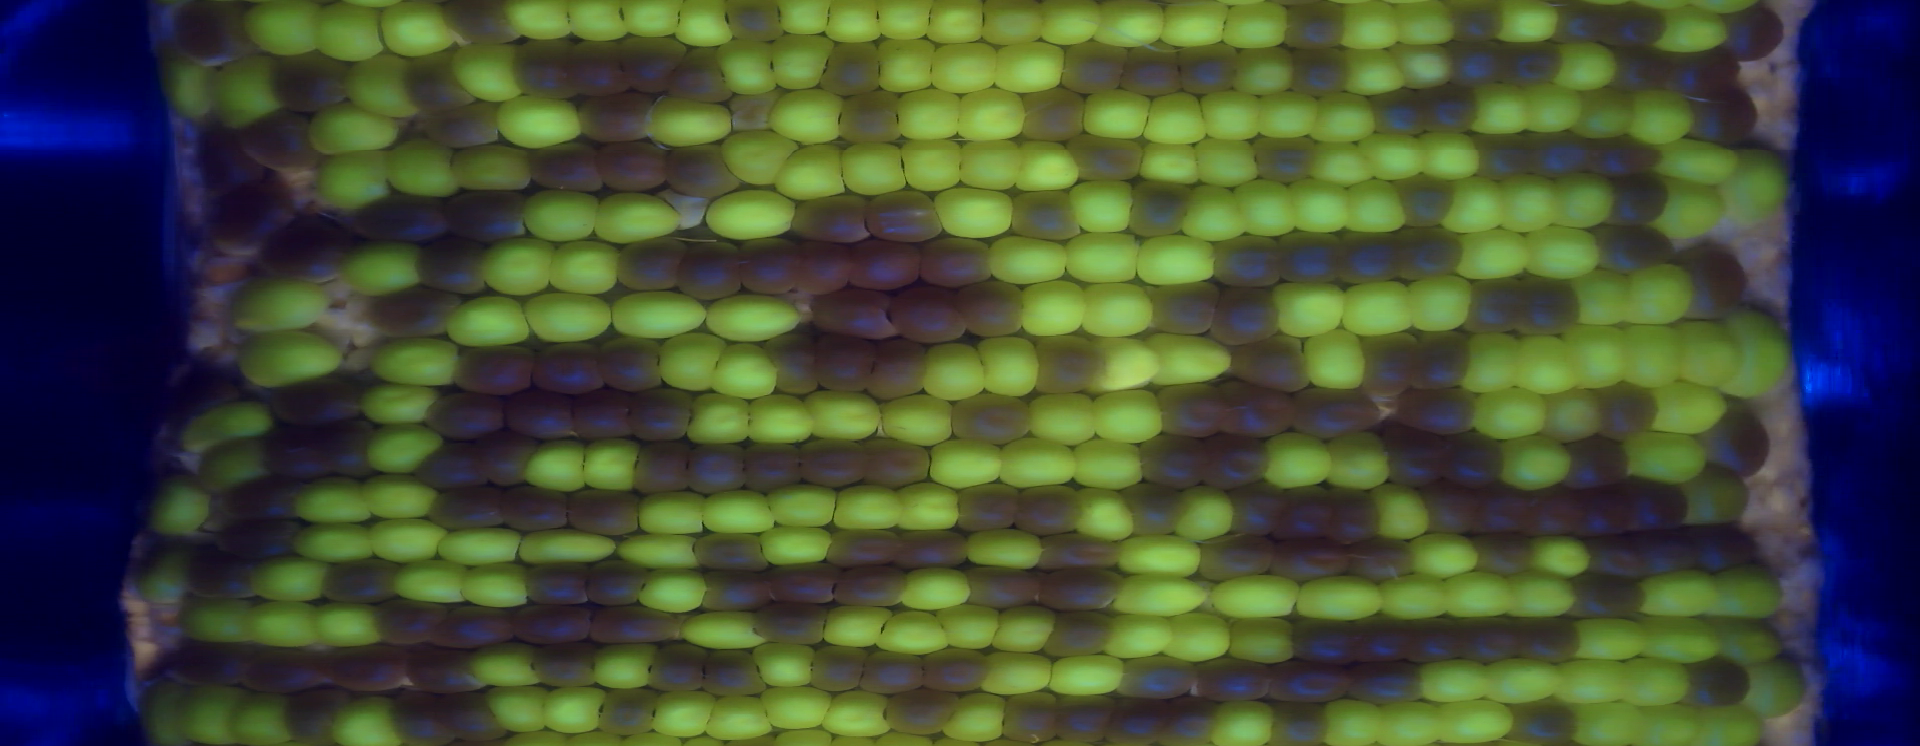fluorescent: (230, 325, 351, 390), (1716, 307, 1795, 405), (168, 394, 288, 457), (220, 274, 333, 341), (146, 36, 222, 129), (1667, 457, 1757, 534), (697, 287, 809, 348), (1100, 565, 1216, 621), (1717, 142, 1794, 227), (696, 185, 803, 245), (1251, 428, 1346, 496), (1142, 328, 1242, 393), (338, 50, 424, 125), (516, 288, 620, 349), (442, 134, 540, 198), (203, 48, 280, 130), (1553, 318, 1636, 394), (600, 289, 714, 344), (1261, 276, 1354, 343), (1080, 383, 1173, 451), (364, 334, 468, 394), (334, 236, 431, 300), (440, 292, 536, 355), (1071, 274, 1160, 344), (1703, 560, 1793, 628), (492, 89, 588, 153), (301, 96, 400, 157), (310, 145, 397, 214), (718, 125, 804, 195), (1167, 178, 1254, 247), (1108, 528, 1213, 586), (1079, 333, 1167, 402), (355, 416, 452, 479), (349, 467, 449, 527), (928, 183, 1022, 246), (987, 431, 1085, 492), (588, 187, 687, 247), (1733, 650, 1812, 725), (1506, 327, 1588, 399), (1204, 568, 1307, 626), (1007, 273, 1093, 341), (1291, 571, 1392, 628), (1020, 386, 1108, 452), (647, 325, 729, 396), (770, 135, 853, 205), (636, 93, 741, 148), (236, 1, 331, 62), (370, 1, 464, 62), (978, 232, 1074, 292), (950, 80, 1038, 145), (189, 432, 277, 497), (475, 232, 558, 300), (1064, 434, 1153, 497), (1669, 314, 1742, 391), (1400, 266, 1478, 338), (795, 383, 885, 446), (360, 510, 454, 570), (1547, 653, 1641, 713), (1630, 563, 1728, 621), (1697, 611, 1793, 670), (540, 235, 624, 301), (1296, 322, 1373, 394), (446, 36, 524, 107), (383, 134, 463, 203), (1131, 230, 1222, 292), (1485, 167, 1566, 235), (1630, 610, 1724, 669), (816, 593, 902, 657), (1133, 86, 1215, 153), (1338, 274, 1420, 342), (306, 1, 389, 67), (970, 330, 1044, 403), (1166, 478, 1242, 550), (912, 334, 989, 405), (287, 472, 380, 530), (1651, 129, 1744, 187), (509, 521, 623, 568), (1449, 225, 1539, 285), (1520, 223, 1607, 285), (1644, 173, 1728, 238), (1057, 227, 1149, 285), (1622, 258, 1696, 332), (1618, 429, 1713, 485), (1319, 425, 1397, 494), (986, 38, 1071, 100), (831, 134, 913, 198), (740, 388, 822, 453), (1456, 327, 1529, 399), (1615, 318, 1687, 392), (1365, 477, 1438, 550), (1547, 167, 1622, 236), (609, 527, 711, 578), (1566, 262, 1644, 330), (763, 85, 849, 146), (1063, 483, 1144, 548), (242, 551, 336, 608), (1491, 431, 1578, 491), (760, 477, 849, 535), (1477, 650, 1565, 709), (520, 183, 605, 244), (922, 434, 1014, 490), (1370, 566, 1456, 626), (707, 339, 785, 404), (144, 467, 216, 538), (287, 514, 384, 566), (167, 679, 241, 746), (676, 604, 771, 657), (1420, 698, 1526, 746), (876, 390, 958, 451), (1227, 176, 1303, 243), (1495, 567, 1588, 621), (514, 432, 591, 497), (696, 484, 782, 541), (1464, 381, 1551, 439), (1435, 566, 1522, 624), (1411, 649, 1498, 707), (1078, 82, 1156, 146), (765, 27, 838, 96), (1412, 119, 1484, 187), (1441, 171, 1513, 240), (1280, 171, 1354, 238), (953, 129, 1029, 194), (923, 37, 1005, 97), (1558, 695, 1653, 746), (889, 82, 967, 145), (753, 679, 836, 737), (239, 593, 322, 652), (1644, 4, 1735, 58), (1188, 130, 1267, 191), (1625, 81, 1697, 148), (629, 483, 714, 540), (818, 686, 902, 744), (1646, 380, 1730, 437), (1566, 612, 1658, 665), (1153, 610, 1236, 669), (894, 135, 971, 197), (1063, 174, 1140, 236), (1463, 78, 1540, 141), (356, 379, 446, 432), (173, 595, 260, 650), (130, 676, 198, 746), (1531, 383, 1610, 443), (1615, 654, 1700, 710), (1220, 612, 1302, 670), (324, 688, 407, 746), (432, 522, 528, 571), (1307, 89, 1386, 148), (384, 554, 473, 606), (1398, 529, 1484, 583), (1569, 81, 1641, 145), (711, 36, 785, 98), (462, 637, 545, 692), (1248, 83, 1322, 145), (1353, 126, 1429, 186), (1042, 650, 1134, 699), (1549, 36, 1622, 97), (629, 563, 713, 617), (1333, 44, 1413, 100), (1008, 134, 1082, 194), (587, 637, 662, 696), (678, 392, 759, 447), (305, 595, 386, 650), (131, 539, 197, 606), (574, 432, 647, 494), (1191, 85, 1265, 145), (223, 687, 298, 746), (961, 526, 1051, 575), (871, 33, 938, 98), (1344, 175, 1412, 240), (887, 478, 964, 534), (700, 688, 778, 745), (828, 481, 910, 534), (1202, 693, 1284, 746), (893, 562, 978, 612), (932, 599, 1007, 657), (476, 677, 551, 735), (973, 642, 1053, 696), (743, 638, 820, 693), (1513, 78, 1586, 137), (1311, 692, 1390, 746), (1226, 43, 1300, 99), (459, 559, 534, 615), (1521, 529, 1596, 586), (1093, 1, 1173, 54), (1101, 610, 1180, 663), (873, 608, 953, 660), (1332, 1, 1404, 59), (984, 601, 1062, 655), (1364, 698, 1451, 746), (539, 682, 613, 737), (940, 688, 1011, 746), (1303, 132, 1375, 189), (644, 686, 718, 741), (493, 1, 580, 48), (1216, 1, 1291, 55), (1387, 40, 1463, 93), (756, 523, 839, 570), (1160, 1, 1233, 54), (1690, 702, 1777, 746), (1390, 1, 1464, 51), (1631, 698, 1709, 746), (1493, 1, 1567, 49), (1138, 138, 1204, 192), (556, 1, 632, 48), (1036, 1, 1104, 53), (667, 1, 737, 51), (920, 1, 989, 50), (977, 1, 1047, 50), (867, 1, 938, 47), (819, 1, 885, 49), (613, 1, 686, 43), (774, 1, 835, 40)
nonfluorescent: (251, 212, 358, 288), (435, 183, 541, 249), (202, 187, 302, 256), (1701, 401, 1782, 485), (1287, 381, 1391, 446), (189, 118, 273, 197), (312, 636, 418, 699), (1674, 238, 1753, 321), (169, 1, 258, 75), (235, 108, 324, 181), (1211, 374, 1302, 446), (802, 283, 906, 345), (413, 385, 516, 447), (264, 48, 355, 118), (351, 187, 458, 245), (1224, 330, 1314, 398), (360, 285, 464, 344), (1201, 281, 1284, 354), (266, 372, 371, 430), (1273, 220, 1357, 293), (408, 232, 492, 303), (1003, 183, 1093, 249), (1024, 330, 1106, 402), (1509, 272, 1592, 343), (1187, 526, 1281, 588), (883, 283, 973, 348), (520, 337, 611, 402), (942, 386, 1037, 447), (556, 481, 651, 543), (835, 235, 932, 295), (609, 230, 693, 299), (1182, 652, 1284, 708), (1146, 379, 1232, 446), (1026, 562, 1130, 617), (787, 430, 876, 495), (396, 50, 478, 119), (1562, 567, 1654, 628), (1584, 219, 1680, 278), (950, 276, 1033, 343), (231, 644, 333, 699), (485, 477, 578, 537), (753, 330, 828, 404), (671, 235, 748, 307), (858, 187, 949, 249), (1054, 129, 1149, 187), (658, 40, 740, 108), (616, 28, 691, 102), (277, 681, 361, 746), (829, 83, 909, 152), (583, 134, 669, 197), (255, 423, 340, 486), (1686, 80, 1766, 148), (447, 339, 544, 396), (1127, 430, 1213, 492), (1011, 83, 1093, 149), (1354, 327, 1428, 401), (858, 334, 936, 404), (658, 138, 743, 201), (1431, 428, 1513, 492), (731, 230, 808, 299), (1029, 526, 1131, 577), (584, 598, 687, 649), (1499, 610, 1587, 670), (560, 386, 644, 448), (163, 635, 258, 690), (782, 190, 872, 249), (1391, 220, 1472, 285), (1678, 650, 1758, 715), (508, 33, 585, 100), (403, 440, 497, 495), (415, 481, 509, 537), (1120, 176, 1199, 243), (1116, 479, 1196, 543), (1262, 480, 1343, 544), (1035, 608, 1124, 665), (1281, 612, 1374, 668), (1390, 383, 1480, 440), (500, 383, 583, 445), (1329, 227, 1407, 292), (1589, 380, 1668, 445), (1007, 481, 1095, 539), (573, 88, 658, 148), (1054, 38, 1135, 100), (1221, 477, 1296, 544), (560, 34, 636, 100), (816, 36, 891, 102), (397, 638, 484, 696), (429, 686, 516, 744), (1667, 45, 1753, 103), (1194, 430, 1273, 492), (1615, 474, 1700, 533), (1389, 164, 1462, 232), (913, 233, 999, 290), (1261, 532, 1351, 587), (1114, 37, 1191, 100), (1202, 232, 1286, 290), (1719, 2, 1790, 71), (313, 415, 386, 483), (956, 559, 1044, 614), (506, 598, 598, 650), (855, 434, 937, 492), (1518, 124, 1600, 183), (593, 330, 670, 392), (1245, 127, 1324, 189), (677, 439, 756, 500), (623, 383, 702, 445), (1445, 609, 1523, 670), (525, 639, 609, 697), (811, 331, 880, 399), (1114, 650, 1207, 702), (1146, 277, 1220, 342), (520, 138, 605, 195), (1555, 435, 1636, 494), (382, 684, 458, 746), (415, 97, 504, 149), (876, 684, 965, 736), (429, 601, 524, 650), (1343, 609, 1420, 669), (748, 597, 834, 650), (1409, 328, 1482, 392), (1502, 695, 1592, 746), (694, 565, 781, 617), (313, 555, 400, 608), (590, 680, 666, 740), (1598, 170, 1674, 230), (179, 548, 260, 604), (1384, 423, 1451, 490), (362, 594, 451, 646), (944, 480, 1026, 535), (167, 367, 249, 423), (913, 641, 996, 696), (1458, 273, 1531, 336), (1689, 521, 1767, 578), (1416, 481, 1494, 539), (1397, 612, 1476, 670), (212, 475, 306, 523), (624, 436, 698, 497), (440, 1, 529, 51), (1562, 485, 1642, 541), (696, 643, 771, 702), (212, 514, 307, 561), (1277, 1, 1356, 58), (733, 437, 808, 496), (760, 557, 844, 610), (1259, 660, 1356, 706), (1318, 481, 1384, 548), (469, 420, 536, 485), (991, 688, 1067, 746), (1513, 484, 1589, 541), (1342, 657, 1429, 707), (1594, 1, 1675, 55), (786, 236, 857, 298), (1586, 130, 1668, 183), (686, 526, 774, 575), (825, 563, 913, 612), (578, 554, 654, 610), (1049, 688, 1127, 744), (1577, 528, 1656, 582), (890, 522, 972, 573), (1100, 695, 1182, 746), (849, 647, 932, 697), (1171, 40, 1243, 98), (1624, 528, 1701, 582), (820, 526, 907, 573), (1416, 78, 1483, 140), (1494, 36, 1569, 91), (1287, 39, 1354, 99), (802, 637, 872, 695), (1440, 38, 1511, 94), (644, 637, 710, 697), (1342, 534, 1420, 584), (1464, 483, 1536, 538), (1364, 85, 1431, 142), (517, 557, 591, 609), (1473, 129, 1540, 185), (1605, 43, 1676, 96), (1467, 529, 1537, 582), (1156, 692, 1227, 744), (1261, 695, 1332, 746), (720, 85, 787, 135), (722, 1, 789, 49), (1442, 1, 1509, 48), (1547, 1, 1610, 48)
